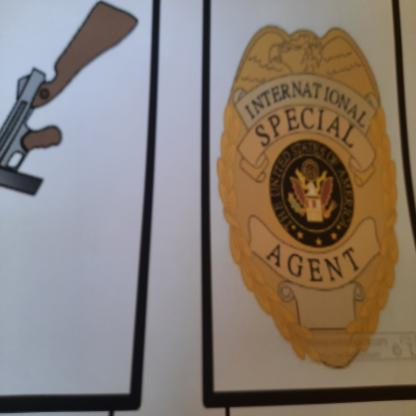G-man: (212, 20, 405, 391)
